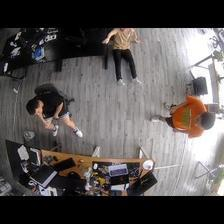fall: (101, 28, 146, 85)
normal: (150, 94, 216, 140), (24, 86, 82, 137)
